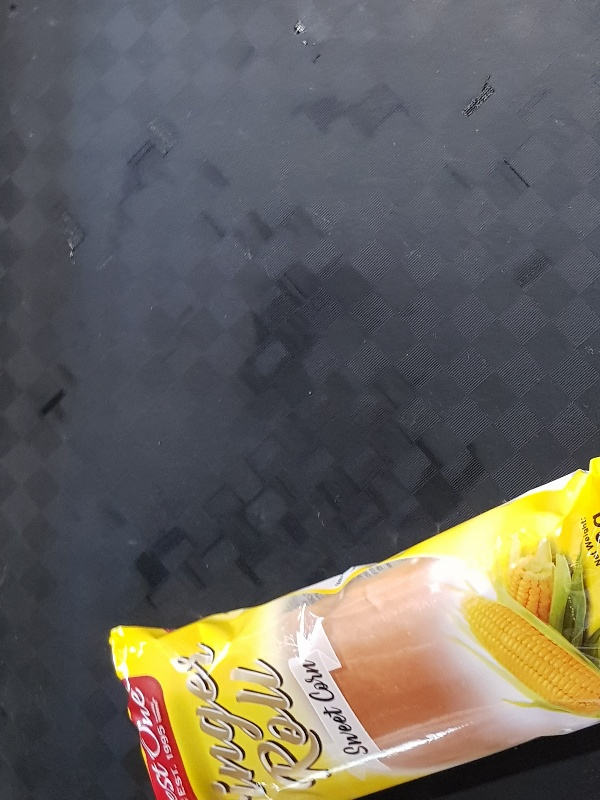Tinges Roll Sweet Corn: (109, 455, 599, 799)
